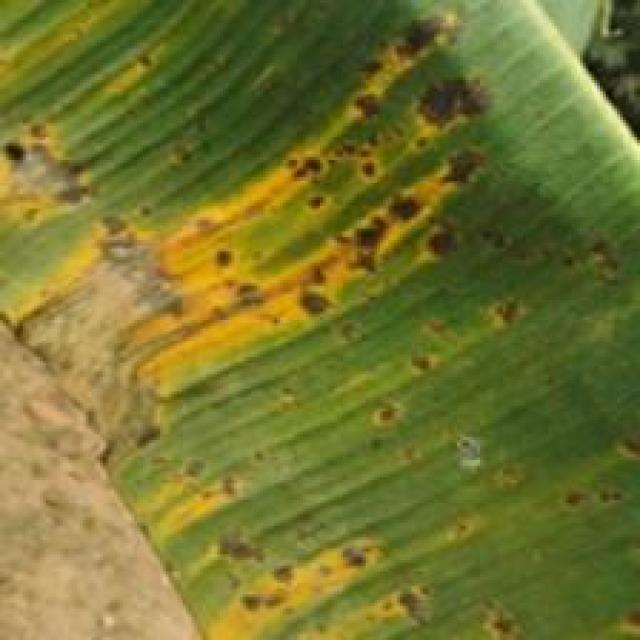Downey_mildrew: (1, 0, 640, 640), (1, 35, 640, 463)
